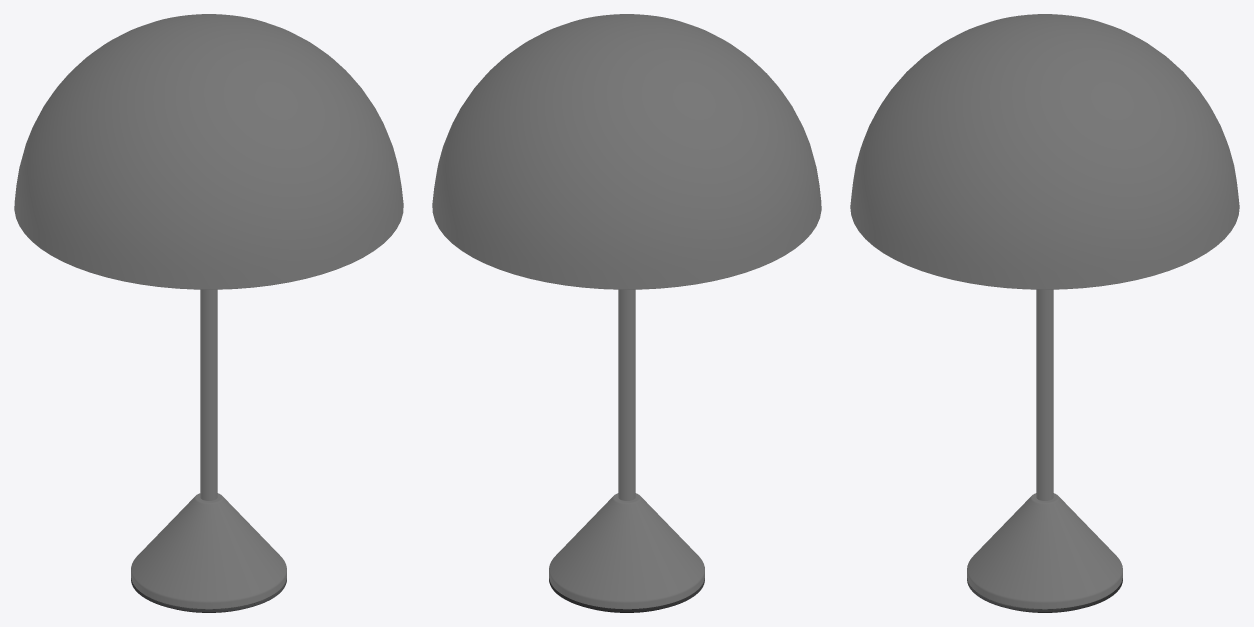
Rendered from lamp0056.glb.
The picture shows the model from 3 angles, left to right: view 1: azimuth 30°, elevation 25°; view 2: azimuth 150°, elevation 25°; view 3: azimuth 270°, elevation 25°; orthographic projection.
Parts seen in each view (by area): view 1: leg, bake_base; view 2: leg, bake_base; view 3: leg, bake_base.
Boxes of the visible parts, x1,y1,x2,y2 form: leg: (14, 14, 403, 609); bake_base: (131, 578, 286, 612); leg: (432, 14, 821, 609); bake_base: (549, 578, 704, 612); leg: (850, 14, 1239, 609); bake_base: (967, 578, 1122, 612).
Bounding box in the file's own units: 250 × 390 × 250.
Materials: 2 (1 with a texture image).
